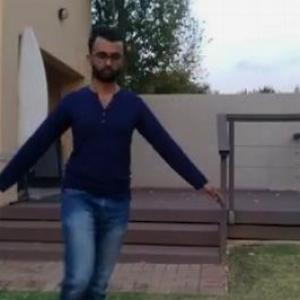land: (1, 42, 188, 299)
